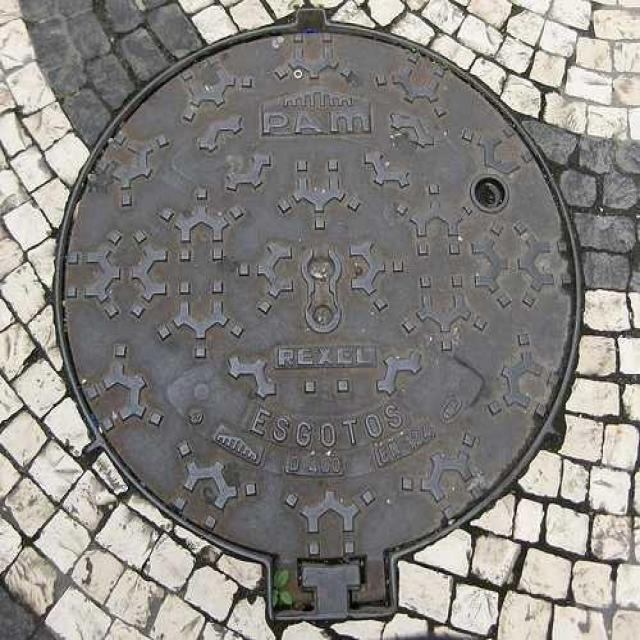manhole: (54, 10, 582, 620)
